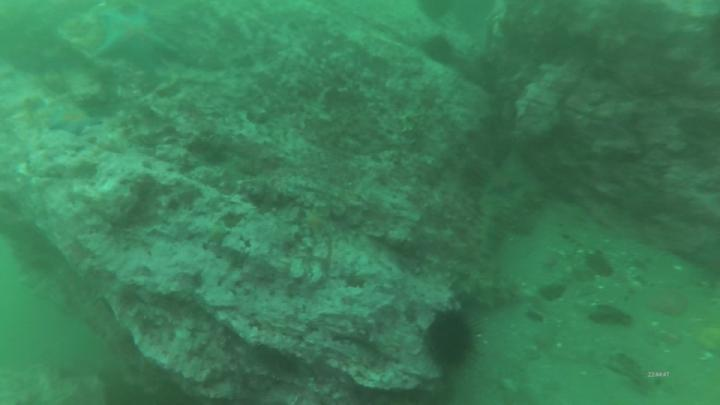echinus: (421, 305, 473, 374), (421, 31, 460, 70), (418, 1, 458, 26)
holothurian: (610, 348, 656, 393), (464, 272, 523, 307)
starfish: (94, 1, 183, 63), (40, 103, 106, 139)
